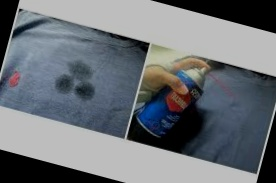oil: (50, 55, 109, 107)
